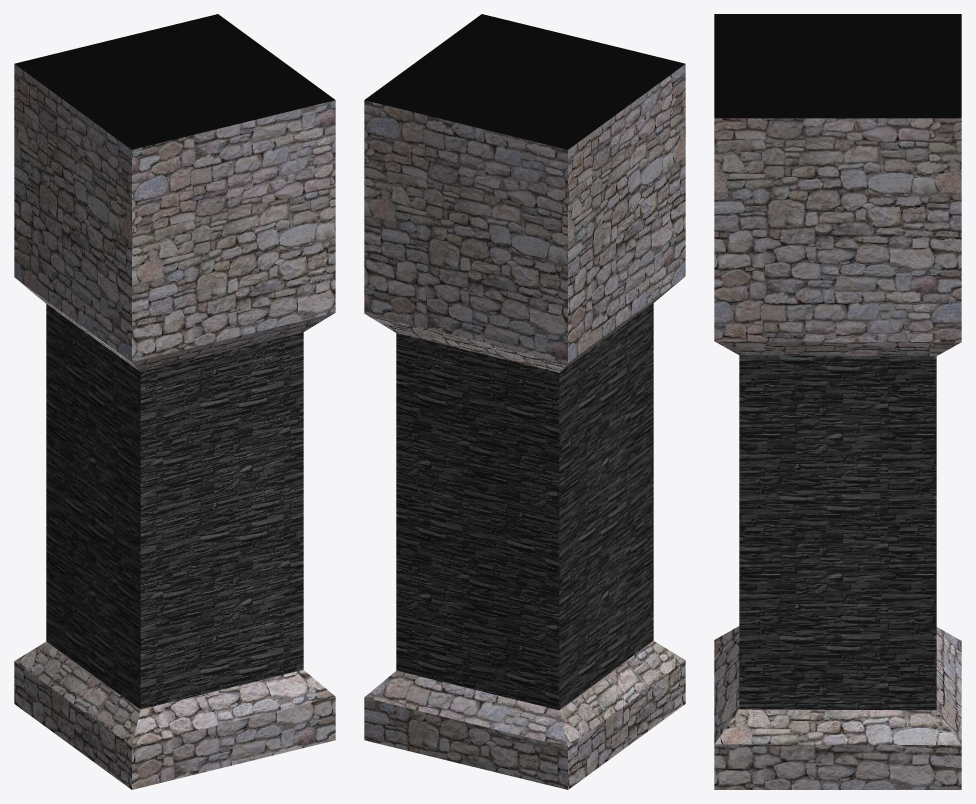
Rendered from Pillar 2.FBX.
3 renders of one model, left to right at view 1: azimuth 30°, elevation 25°; view 2: azimuth 150°, elevation 25°; view 3: azimuth 270°, elevation 25°, orthographic. The views are drawn at different scales.
Parts seen in each view (by area): view 1: Pillar; view 2: Pillar; view 3: Pillar.
Part boxes in pixels (bbox=[...]): Pillar: bbox=[14, 14, 335, 789]; Pillar: bbox=[364, 14, 685, 789]; Pillar: bbox=[714, 14, 961, 789].
Size of the model in its own units: 39.37 by 118 by 39.37.
Materials: 3 (2 with a texture image).
